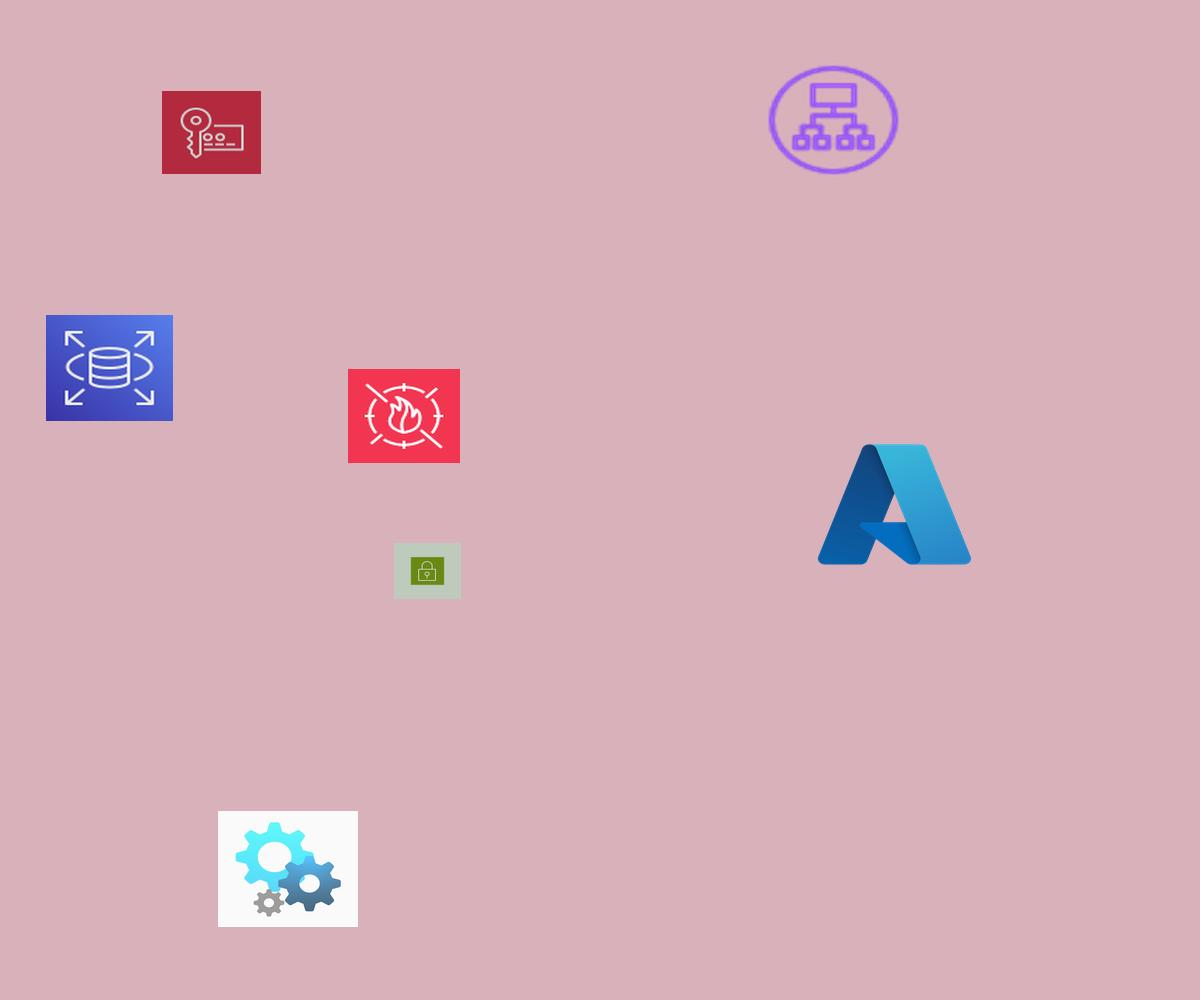AWS-Key-Management-Service: (162, 91, 261, 174)
AWS-Public-subnet: (394, 543, 461, 599)
AWS-RDS: (46, 315, 173, 421)
AWS-Res_Elastic-Load-Balancing_Application-Load-Balancer: (763, 61, 904, 179)
AWS-WAF: (348, 369, 460, 463)
Azure_api: (218, 811, 358, 927)
Azure_services: (811, 435, 978, 574)
